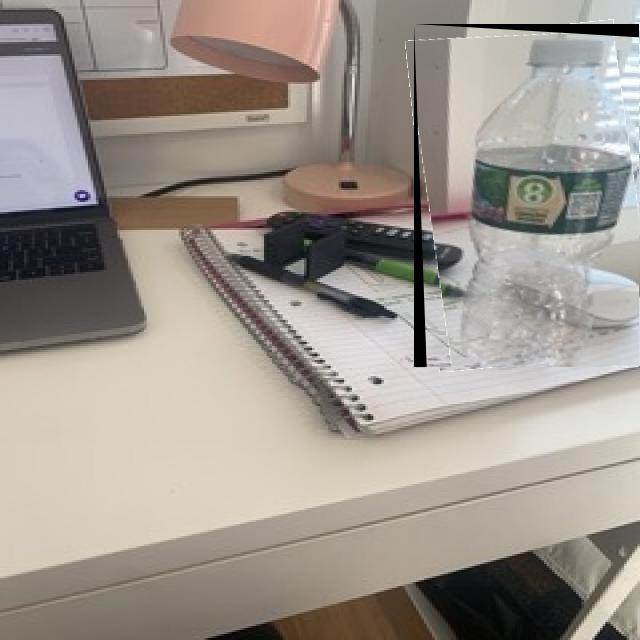water_bottle: (414, 24, 639, 367)
